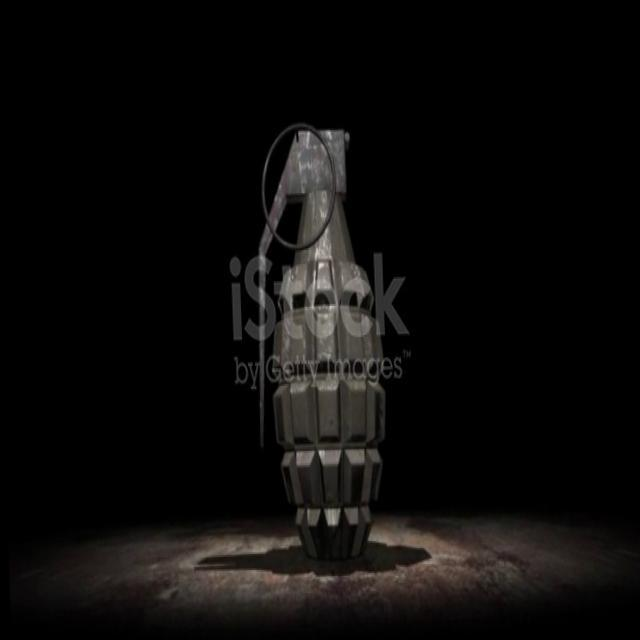grenade: (247, 112, 393, 560)
